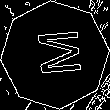M_W: (28, 29, 82, 81)
